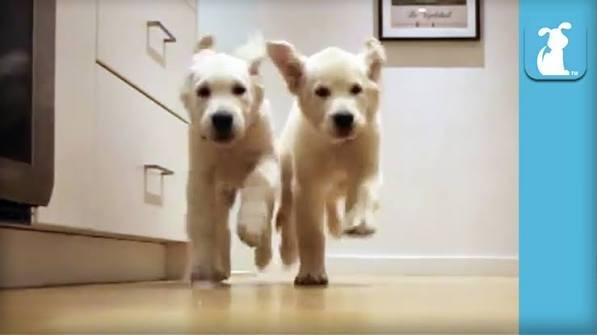puppy-dog: (269, 35, 387, 287), (178, 32, 285, 291)
